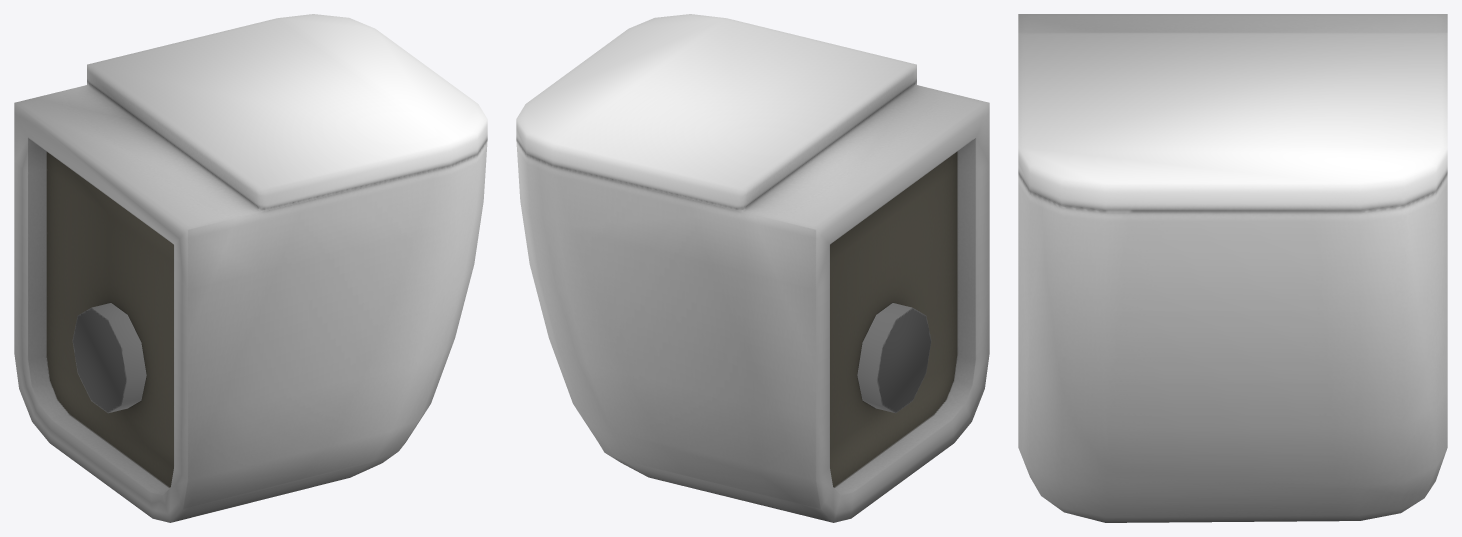
File: toilet_2.glb
3 views of the same model, side by side, from view 1: azimuth 30°, elevation 25°; view 2: azimuth 150°, elevation 25°; view 3: azimuth 270°, elevation 25° (orthographic). The views are drawn at different scales.
Parts seen in each view (by area): view 1: Object_8; view 2: Object_8; view 3: Object_8.
Boxes of the visible parts, x1,y1,x2,y2 form: Object_8: (14,14,487,522); Object_8: (516,14,989,522); Object_8: (1018,14,1447,522).
Bounding box in the file's own units: 0.5444 × 0.5325 × 0.5.
Materials: 1 (1 with a texture image).
